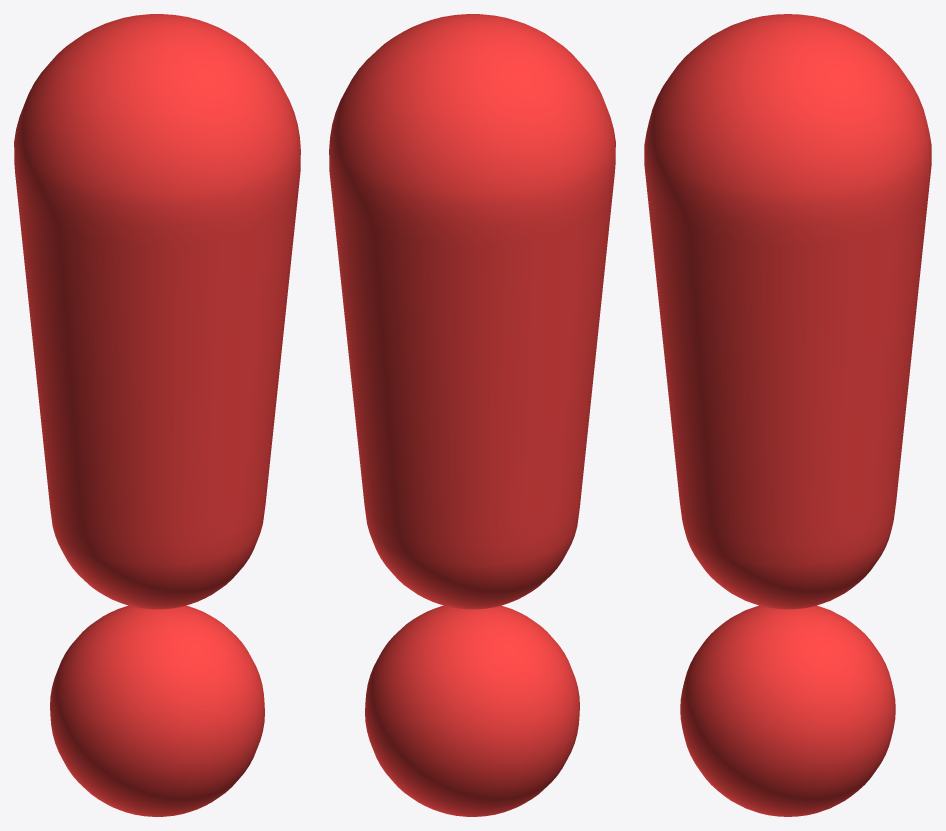
File: SM_Goal.FBX
3 renders of one model, left to right at view 1: azimuth 30°, elevation 25°; view 2: azimuth 150°, elevation 25°; view 3: azimuth 270°, elevation 25°, orthographic.
Parts seen in each view (by area): view 1: SM_Goal; view 2: SM_Goal; view 3: SM_Goal.
Part boxes in pixels (<box>): SM_Goal: <box>14,14,300,816</box>; SM_Goal: <box>329,14,615,816</box>; SM_Goal: <box>644,14,931,816</box>.
Size of what is drawn, in the model's own units: 74.21 by 74.21 by 222.
